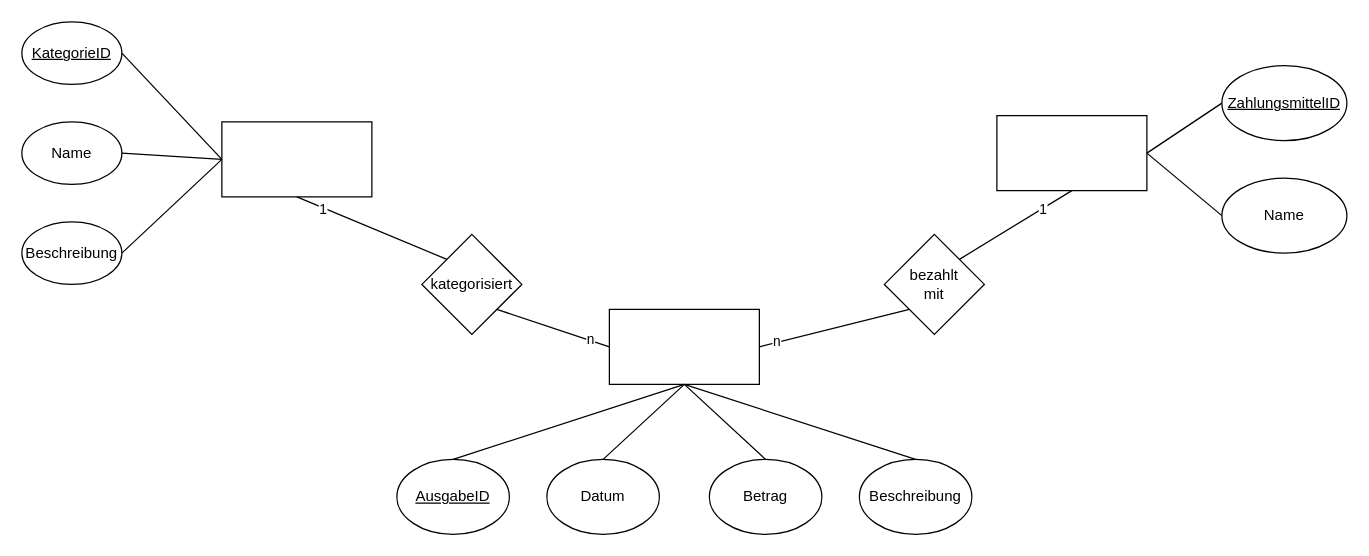
The diagram is 1369 pixels wide and 556 high, and some of its shapes have lost their labels. Each missing label, with the centre of its shape:
Ausgabe: [683,346]
Kategorie: [296,159]
Zahlungsmittel: [1071,152]
